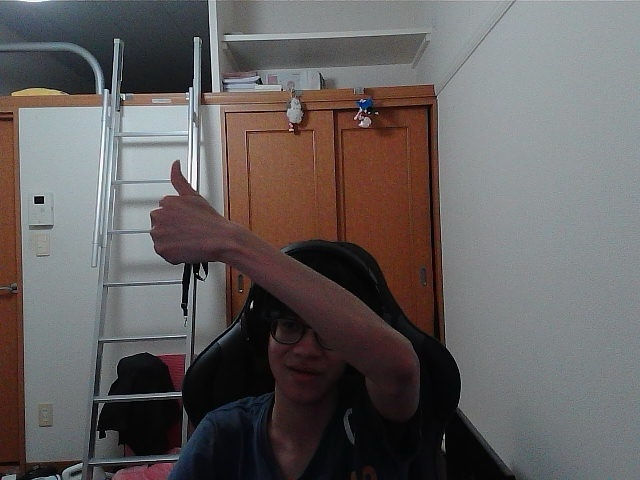thumb_up: (156, 164, 218, 255)
